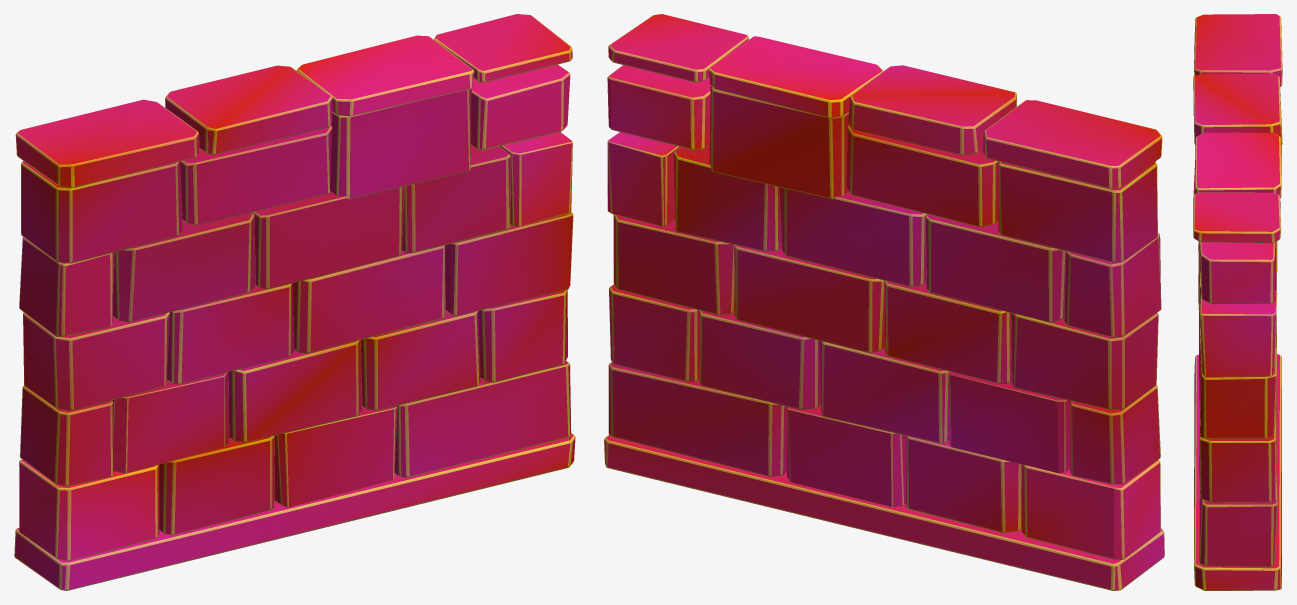
The model's file is SM_Wall.fbx.
3 views of the same model, side by side, from view 1: azimuth 30°, elevation 25°; view 2: azimuth 150°, elevation 25°; view 3: azimuth 270°, elevation 25° (orthographic). The views are drawn at different scales.
Visible parts, largest first — view 1: SM_Wall; view 2: SM_Wall; view 3: SM_Wall.
Part boxes in pixels (<box>): SM_Wall: <box>14,14,575,590</box>; SM_Wall: <box>604,14,1164,590</box>; SM_Wall: <box>1193,14,1282,590</box>.
Size of what is drawn, in the model's own units: 69.98 by 401 by 316.
